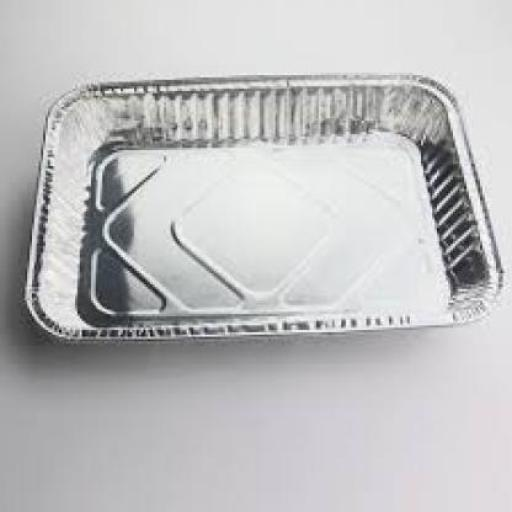metal: (20, 73, 500, 341)
